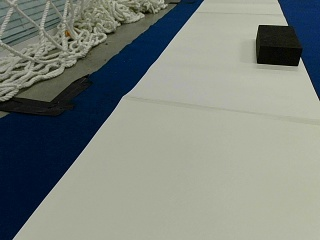block: (255, 25, 301, 66)
